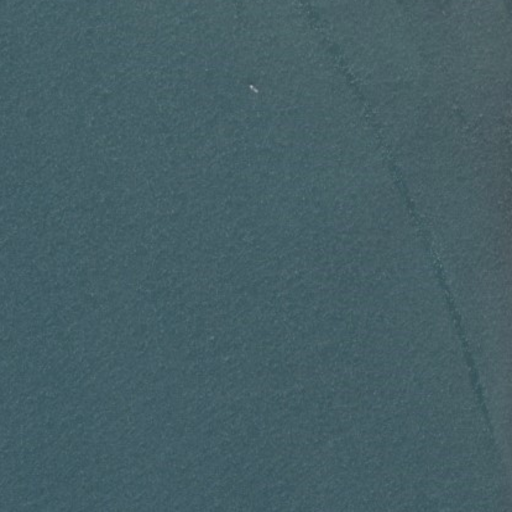ship: (245, 80, 262, 96)
